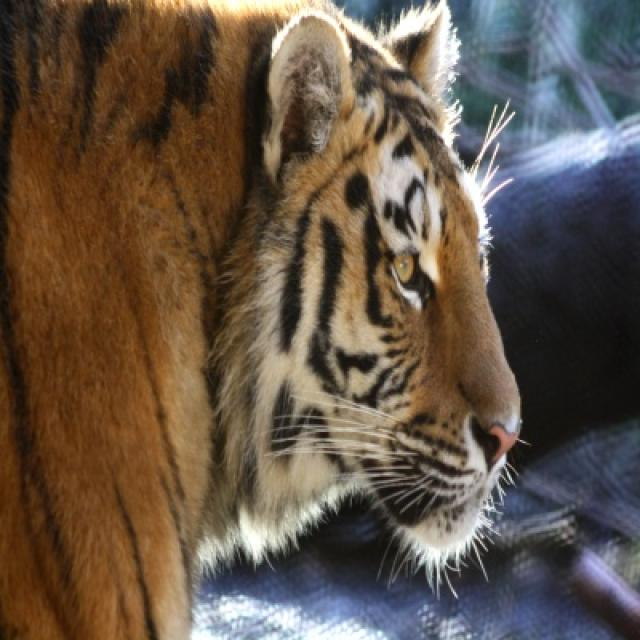Tiger: (0, 4, 518, 632)
